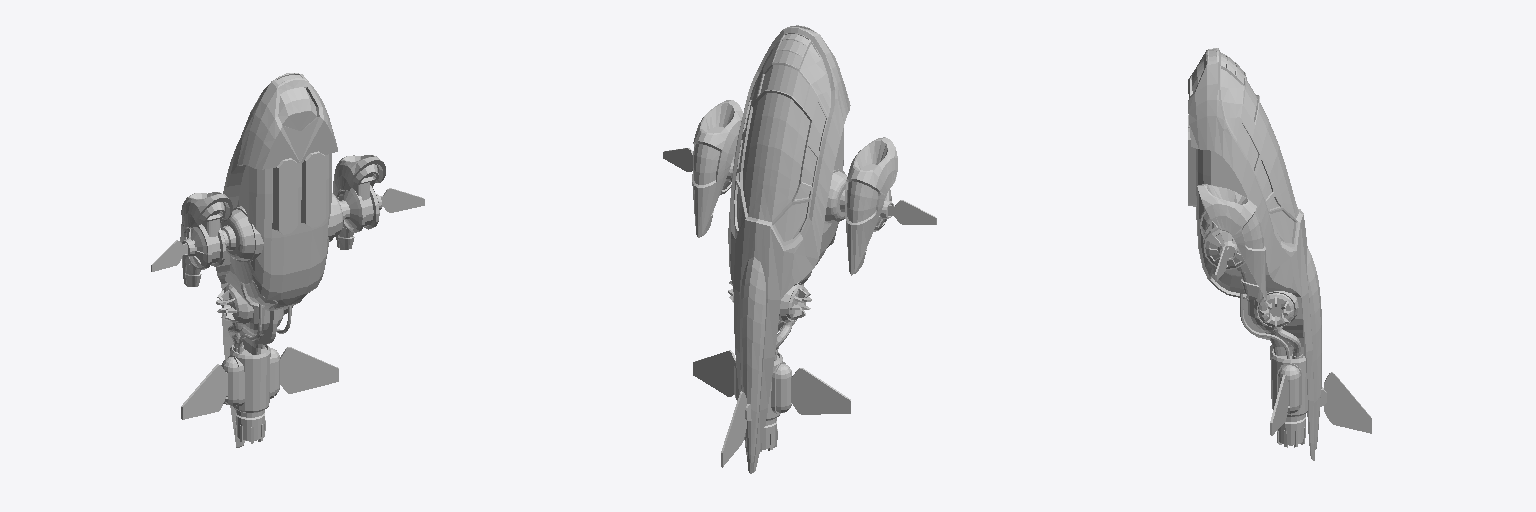
Rendered from Nave.obj.
3 renders of one model, left to right at view 1: azimuth 30°, elevation 25°; view 2: azimuth 150°, elevation 25°; view 3: azimuth 270°, elevation 25°, orthographic.
Parts seen in each view (by area): view 1: Ship_Type_3_Sphere.005; view 2: Ship_Type_3_Sphere.005; view 3: Ship_Type_3_Sphere.005.
Boxes of the visible parts, x1,y1,x2,y2 form: Ship_Type_3_Sphere.005: [151, 73, 424, 447]; Ship_Type_3_Sphere.005: [663, 25, 936, 473]; Ship_Type_3_Sphere.005: [1188, 48, 1371, 460].
Size of the model in its own units: 0.5999 by 0.8613 by 0.3519.